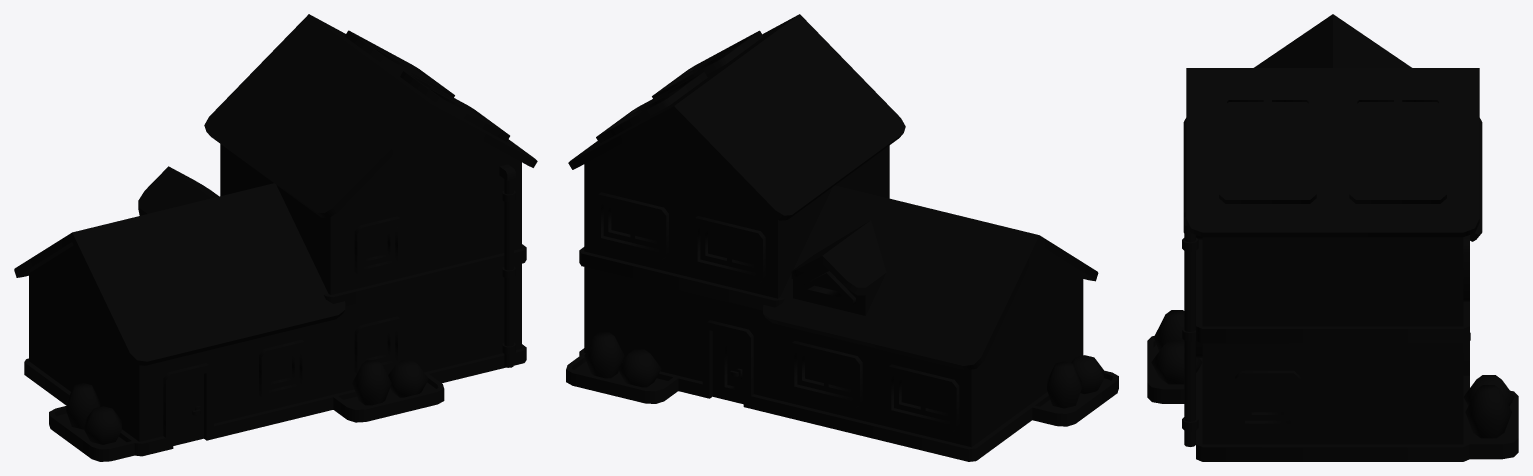
Rendered from building-type-b.glb.
3 views of the same model, side by side, from view 1: azimuth 30°, elevation 25°; view 2: azimuth 150°, elevation 25°; view 3: azimuth 270°, elevation 25° (orthographic). The views are drawn at different scales.
Parts seen in each view (by area): view 1: building-type-b; view 2: building-type-b; view 3: building-type-b.
Boxes of the visible parts, x1,y1,x2,y2 form: building-type-b: (14,14,537,461); building-type-b: (566,14,1118,461); building-type-b: (1147,14,1518,461).
Size of the model in its own units: 1.83 by 1.14 by 1.14.
Materials: 1 (1 with a texture image).
